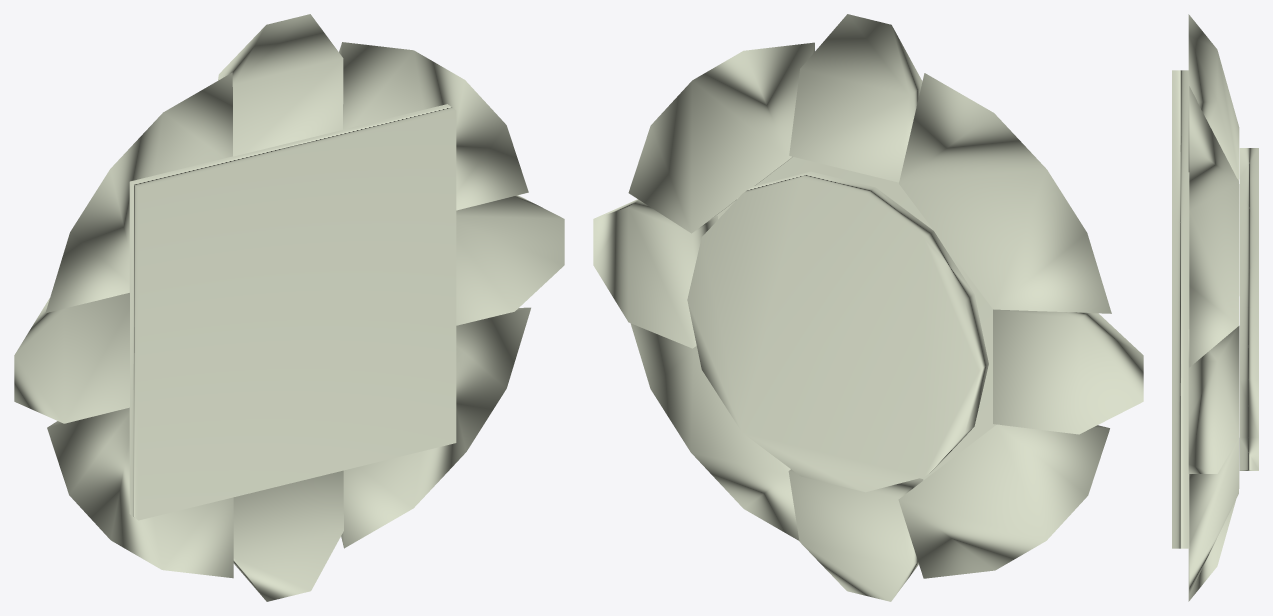
Rendered from button-collider.fbx.
3 views of the same model, side by side, from view 1: azimuth 30°, elevation 25°; view 2: azimuth 150°, elevation 25°; view 3: azimuth 270°, elevation 25° (orthographic).
Parts seen in each view (by area): view 1: portal_button_physics; view 2: portal_button_physics, portal_button_physics.001; view 3: portal_button_physics, portal_button_physics.001.
Part boxes in pixels (bbox=[...]): portal_button_physics: bbox=[14, 14, 564, 601]; portal_button_physics: bbox=[593, 14, 1143, 601]; portal_button_physics.001: bbox=[687, 171, 988, 492]; portal_button_physics: bbox=[1172, 14, 1239, 601]; portal_button_physics.001: bbox=[1239, 148, 1258, 470].
Bounding box in the file's own units: 12127 × 12154 × 1689.
